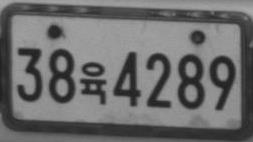2: (145, 51, 171, 108)
3: (17, 47, 43, 102)
4: (113, 50, 142, 107)
8: (48, 47, 76, 104), (177, 52, 205, 109)
9: (209, 54, 237, 111)
육: (79, 61, 107, 105)
